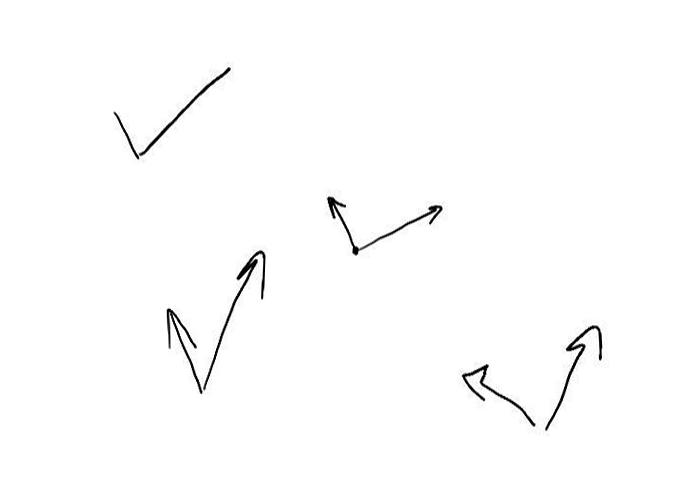arrow: (205, 248, 267, 389), (545, 325, 603, 428), (461, 361, 534, 424), (360, 203, 442, 249), (164, 308, 204, 391), (324, 193, 355, 247)
arrownohead: (139, 65, 229, 152), (111, 109, 139, 159)
